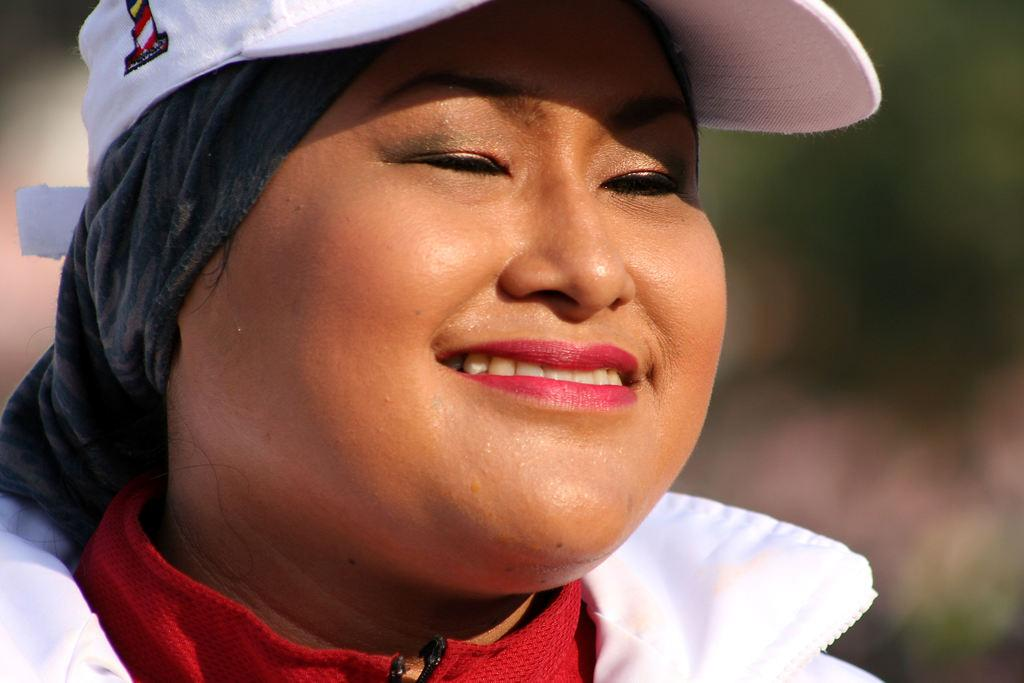Hat: (14, 0, 886, 260)
